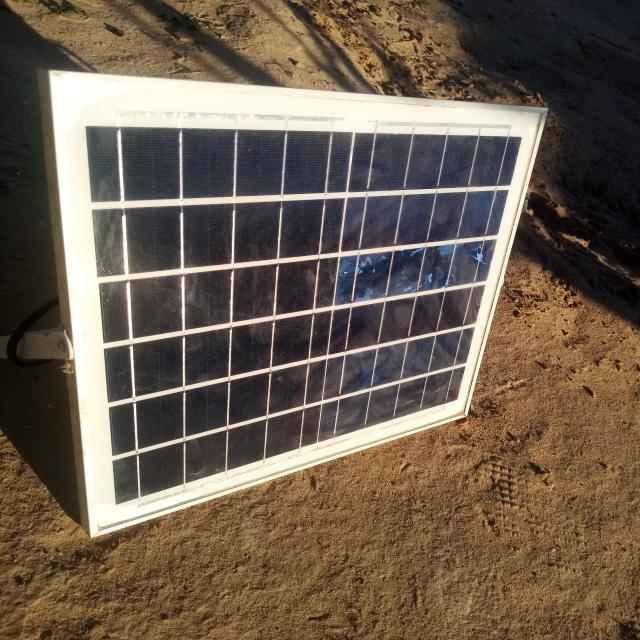faulty: (53, 77, 550, 538)
